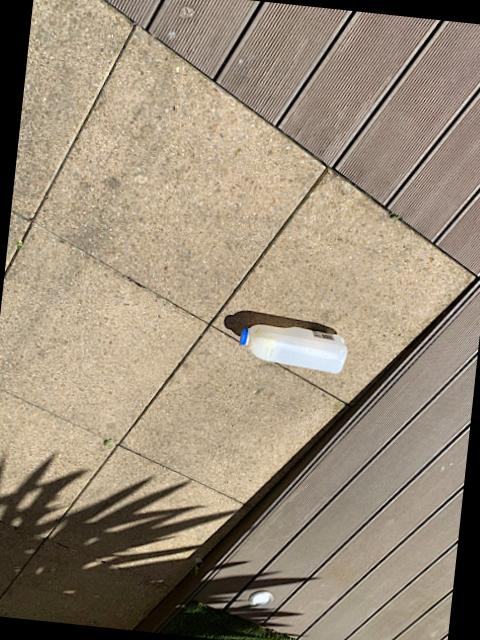plastic: (239, 325, 344, 374)
